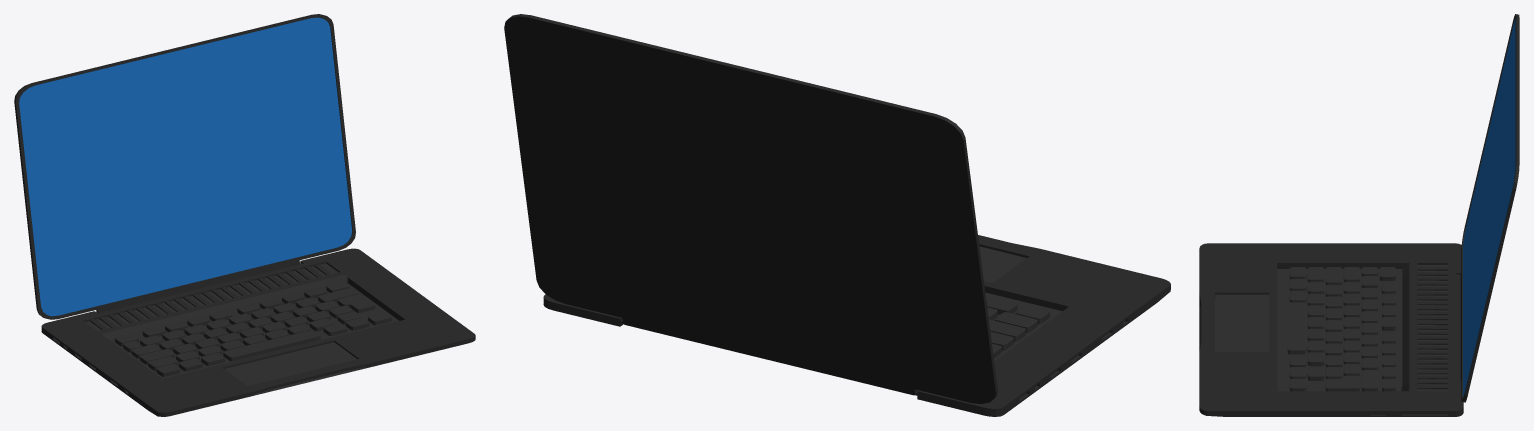
The model's file is Notebook.glb.
The picture shows the model from 3 angles, left to right: view 1: azimuth 30°, elevation 25°; view 2: azimuth 150°, elevation 25°; view 3: azimuth 270°, elevation 25°; orthographic projection. The views are drawn at different scales.
Parts seen in each view (by area): view 1: Plane.001, Plane, Plane.002, Plane.003; view 2: Plane.003, Plane, Plane.002; view 3: Plane, Plane.002, Plane.001, Plane.003.
Part boxes in pixels (left/top/right/bottom): Plane.001: left=19, top=17, right=352, bottom=316; Plane: left=41, top=248, right=475, bottom=416; Plane.002: left=85, top=263, right=398, bottom=385; Plane.003: left=14, top=14, right=355, bottom=319; Plane.003: left=504, top=14, right=997, bottom=403; Plane: left=543, top=235, right=1170, bottom=416; Plane.002: left=979, top=246, right=1061, bottom=360; Plane: left=1199, top=243, right=1463, bottom=416; Plane.002: left=1215, top=265, right=1448, bottom=391; Plane.001: left=1463, top=19, right=1515, bottom=396; Plane.003: left=1460, top=14, right=1519, bottom=402.
Size of the model in its own units: 30 by 20.24 by 24.21.
